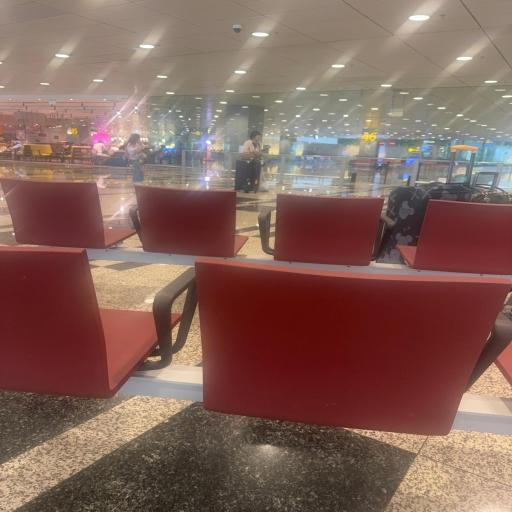person_right: (124, 133, 149, 185)
person_with_luggage_right: (234, 130, 270, 194)
